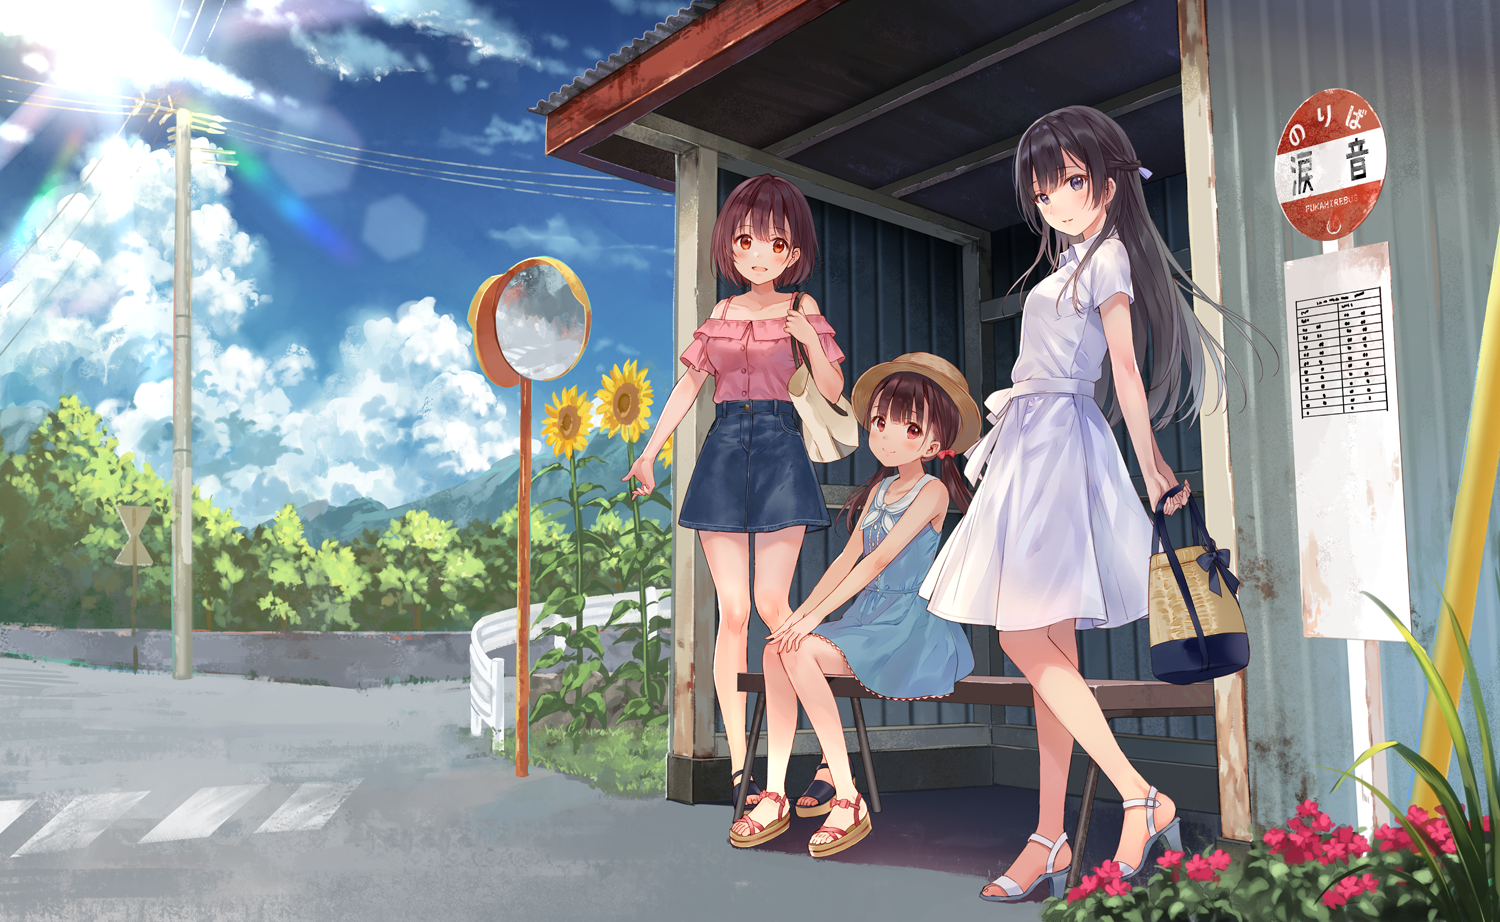纸片人正脸: (1011, 106, 1146, 239), (847, 351, 976, 470), (704, 169, 820, 295)
